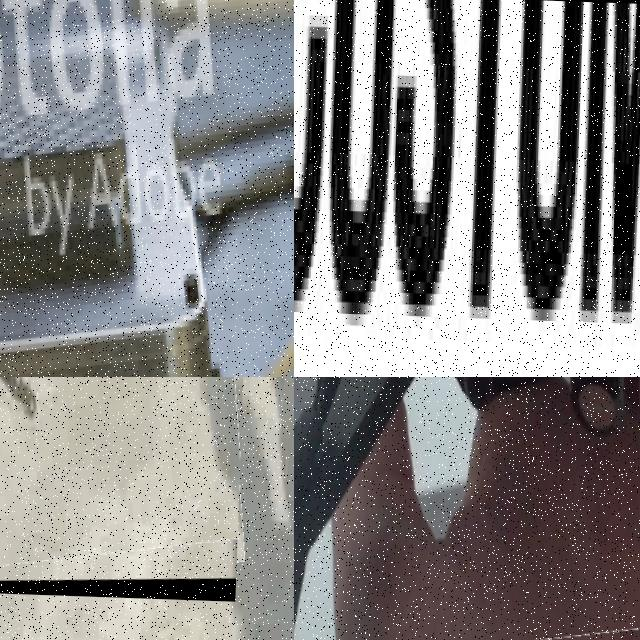drone: (0, 0, 294, 377), (294, 377, 640, 640), (0, 377, 247, 601)
